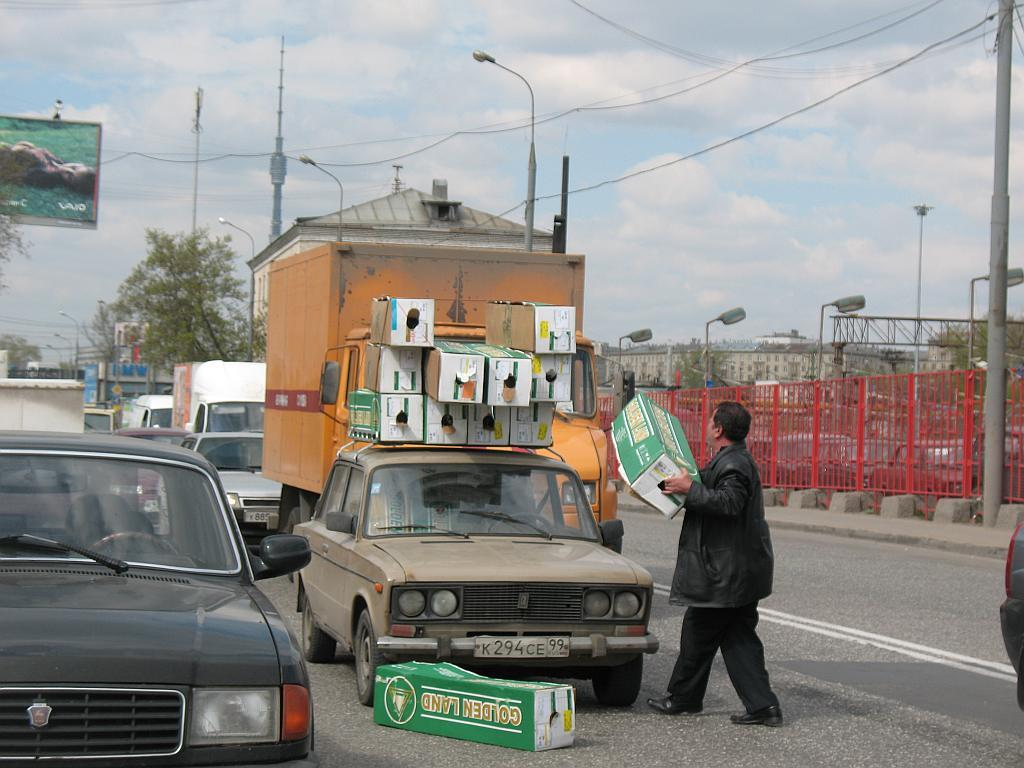mobil: (1, 423, 309, 766), (306, 436, 656, 690)
